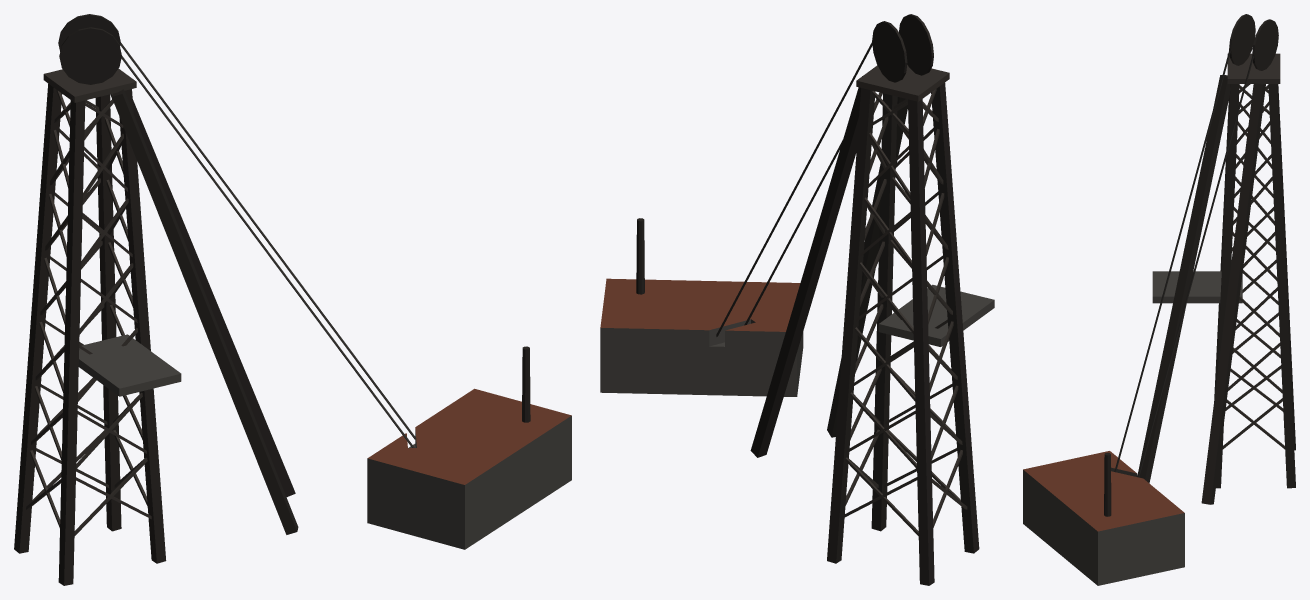
Rendered from landmark_headframe_mid.glb.
The picture shows the model from 3 angles, left to right: view 1: azimuth 30°, elevation 25°; view 2: azimuth 150°, elevation 25°; view 3: azimuth 270°, elevation 25°; orthographic projection. The views are drawn at different scales.
Parts seen in each view (by area): view 1: landmark_headframe_mid; view 2: landmark_headframe_mid; view 3: landmark_headframe_mid.
Part boxes in pixels (x1,y1,x2,y2): landmark_headframe_mid: (14, 14, 571, 585); landmark_headframe_mid: (600, 14, 994, 585); landmark_headframe_mid: (1023, 14, 1295, 585).
Size of the model in its own units: 114 by 132 by 72.77.
